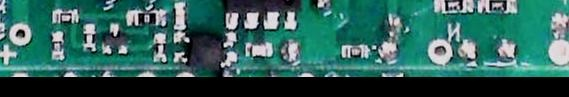chip-capacitor: (171, 0, 188, 31), (244, 41, 275, 58)
chip-resistor: (125, 7, 168, 29), (475, 0, 519, 17), (432, 0, 475, 15), (49, 28, 67, 62), (339, 43, 371, 61), (82, 22, 99, 55), (50, 7, 80, 24), (152, 32, 167, 63)
ic: (170, 30, 238, 68)
transistor: (101, 22, 129, 57)
